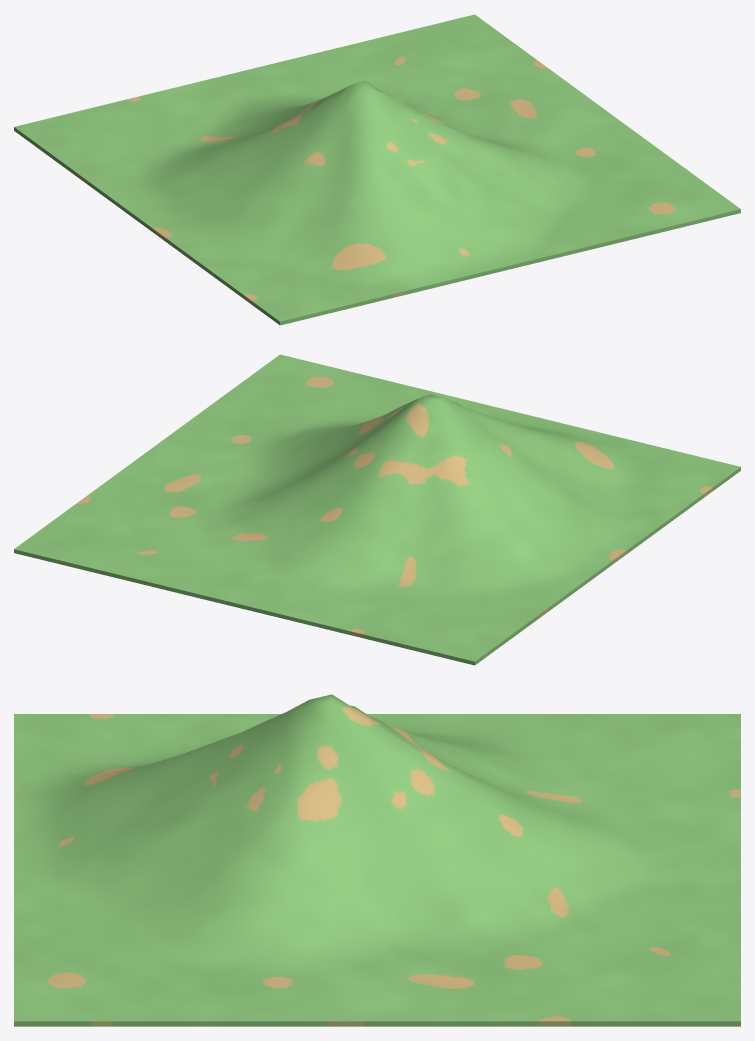
Rendered from Grass_Hills_10.obj.
The picture shows the model from 3 angles, top to bottom: view 1: azimuth 30°, elevation 25°; view 2: azimuth 150°, elevation 25°; view 3: azimuth 270°, elevation 25°; orthographic projection. The views are drawn at different scales.
Size of the model in its own units: 10 by 2.29 by 10.
1 material, 1 textured.
